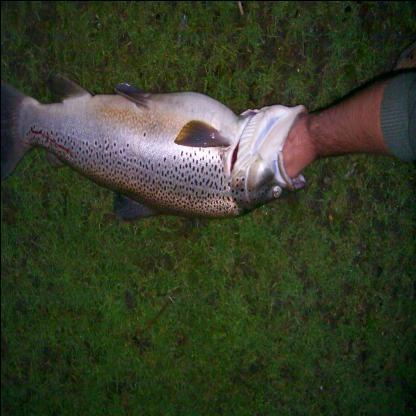fish: (1, 73, 309, 229)
